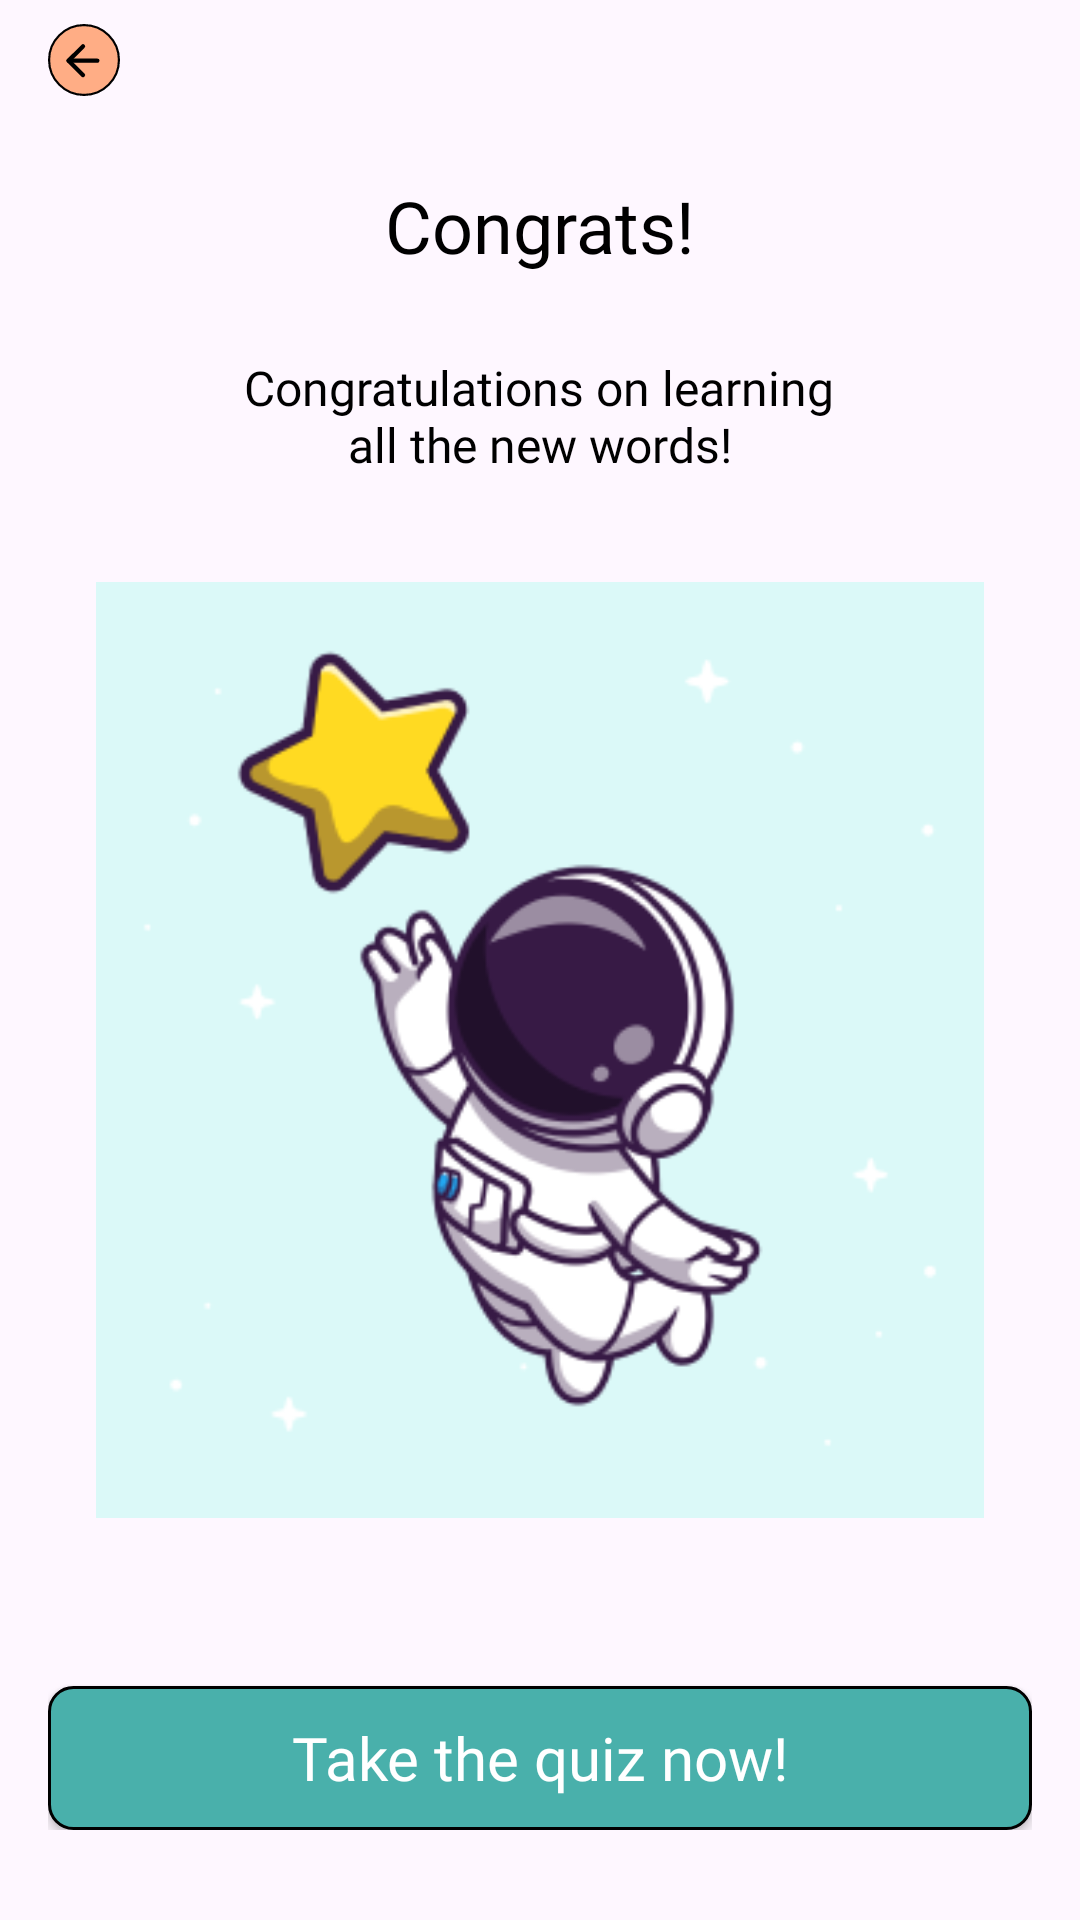

Where icons sit on this 1080 x 1920 app screen, as (x1, y1, x2, y2):
back: (48, 24, 120, 96)
